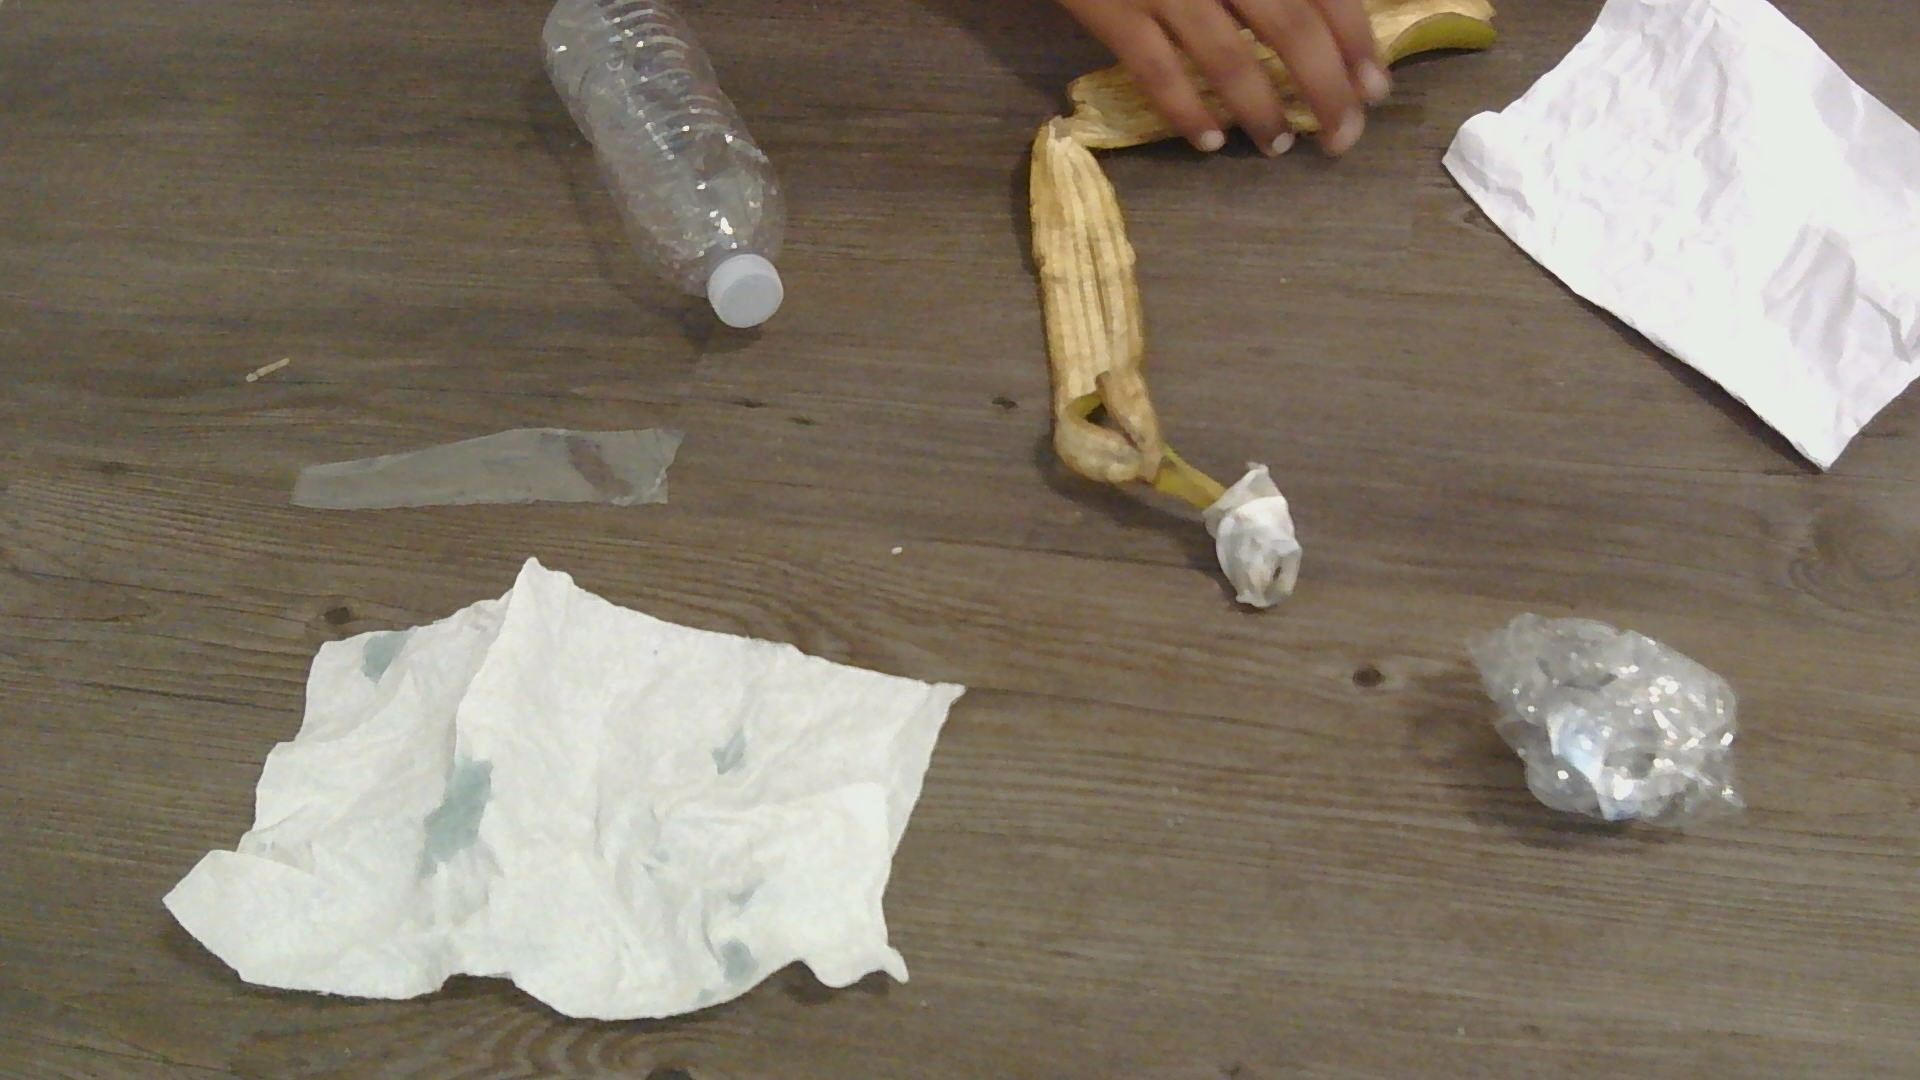banana peel: (1014, 113, 1299, 615)
bottle: (534, 0, 783, 327)
crushed bottle: (1458, 607, 1743, 819)
napkin: (162, 558, 963, 1023)
paper: (1433, 0, 1917, 471)
plastic piece: (282, 426, 687, 506)
